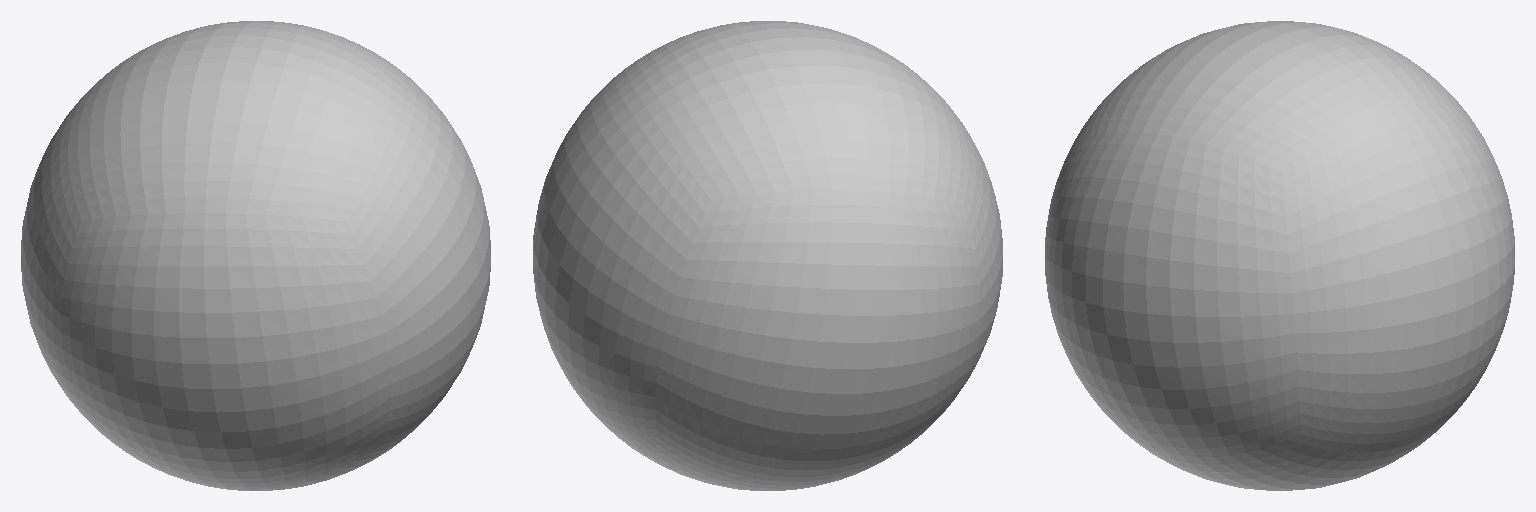
Rendered from Sphere_Smooth_Poked.obj.
3 renders of one model, left to right at view 1: azimuth 30°, elevation 25°; view 2: azimuth 150°, elevation 25°; view 3: azimuth 270°, elevation 25°, orthographic.
Visible parts, largest first — view 1: Cube.002; view 2: Cube.002; view 3: Cube.002.
Boxes of the visible parts, <box> form: Cube.002: <box>21,21,490,490</box>; Cube.002: <box>533,21,1002,490</box>; Cube.002: <box>1045,21,1514,490</box>.
Bounding box in the file's own units: 2.57 × 2.56 × 2.57.